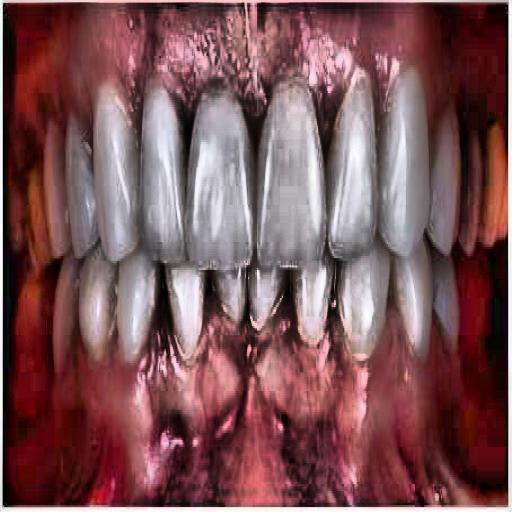Gingivitis: (37, 4, 442, 117)
